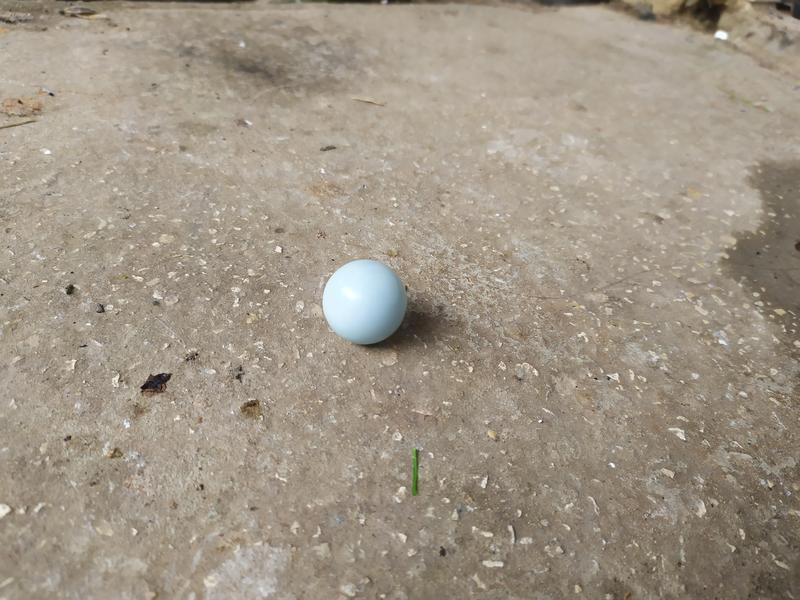Warning: (320, 256, 411, 348)
